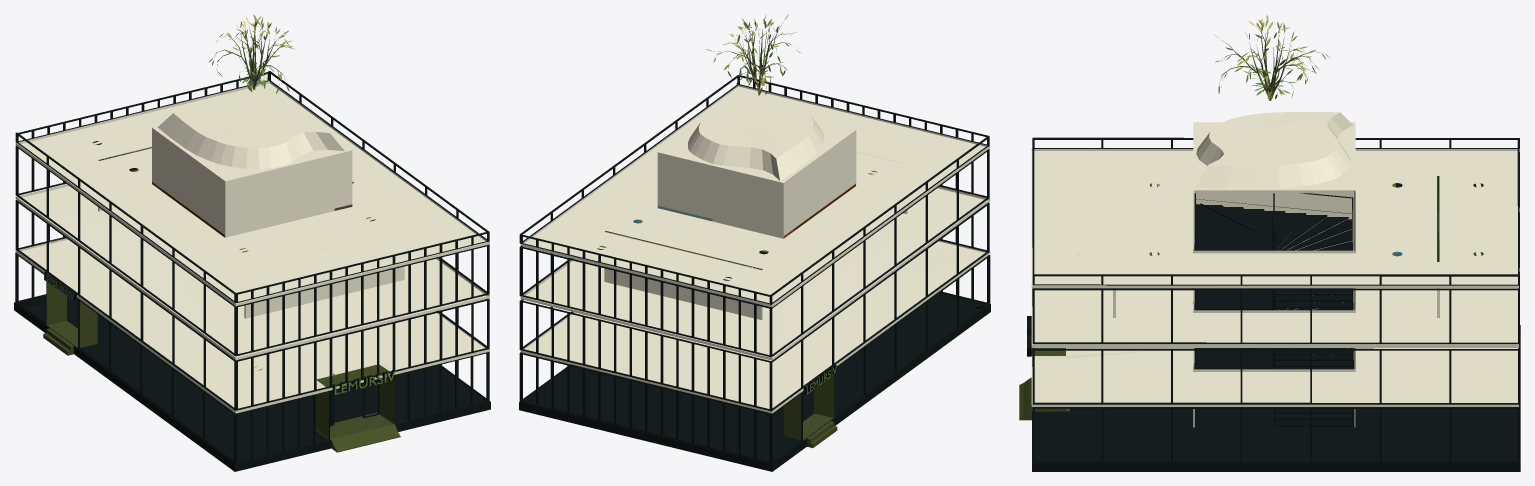
Rendered from infoBooth_scaled.glb.
3 views of the same model, side by side, from view 1: azimuth 30°, elevation 25°; view 2: azimuth 150°, elevation 25°; view 3: azimuth 270°, elevation 25° (orthographic). The views are drawn at different scales.
Visible parts, largest first — view 1: building_noGlass; view 2: building_noGlass; view 3: building_noGlass.
Part boxes in pixels (<box>): building_noGlass: <box>14,14,490,471</box>; building_noGlass: <box>519,14,990,471</box>; building_noGlass: <box>1019,14,1520,471</box>.
Bounding box in the file's own units: 22.45 × 28.3 × 33.64.
2 materials, 1 textured.
